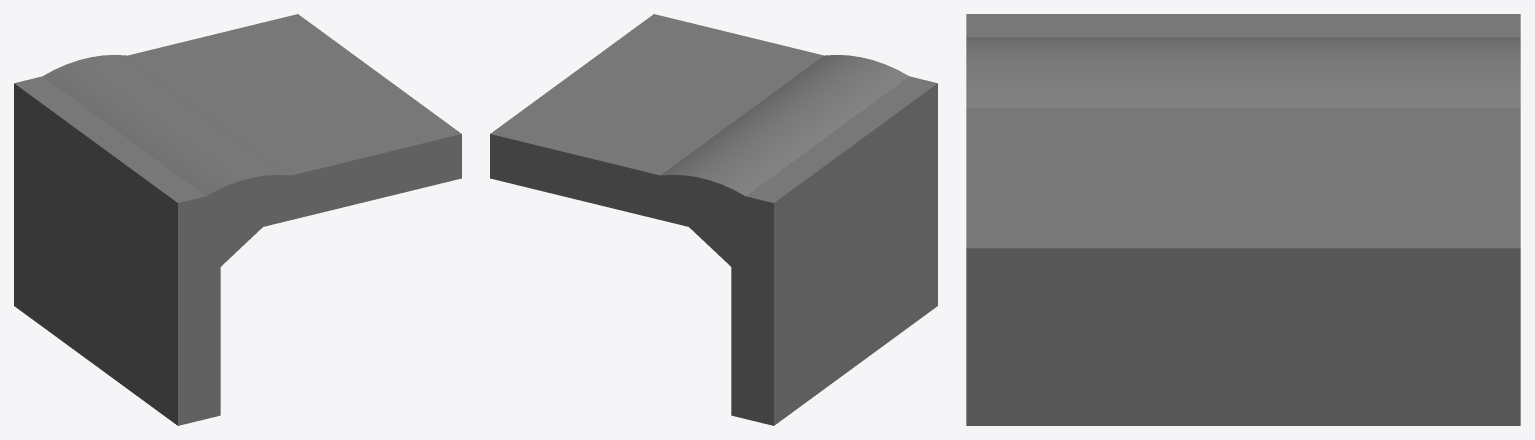
3 renders of one model, left to right at view 1: azimuth 30°, elevation 25°; view 2: azimuth 150°, elevation 25°; view 3: azimuth 270°, elevation 25°, orthographic. The views are drawn at different scales.
Parts seen in each view (by area): view 1: mesh_id4, mesh_id5; view 2: mesh_id4, mesh_id5; view 3: mesh_id4, mesh_id5.
Boxes of the visible parts, x1,y1,x2,y2 form: mesh_id4: [14, 14, 461, 425]; mesh_id5: [42, 55, 291, 266]; mesh_id4: [490, 14, 937, 425]; mesh_id5: [660, 55, 909, 266]; mesh_id4: [966, 14, 1520, 425]; mesh_id5: [966, 37, 1520, 107].
Bounding box in the file's own units: 0.512 × 0.3965 × 0.512.
2 materials, 2 textured.
